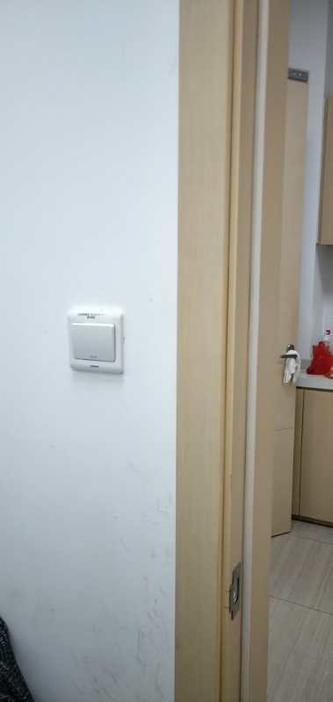switch: (70, 316, 120, 365)
